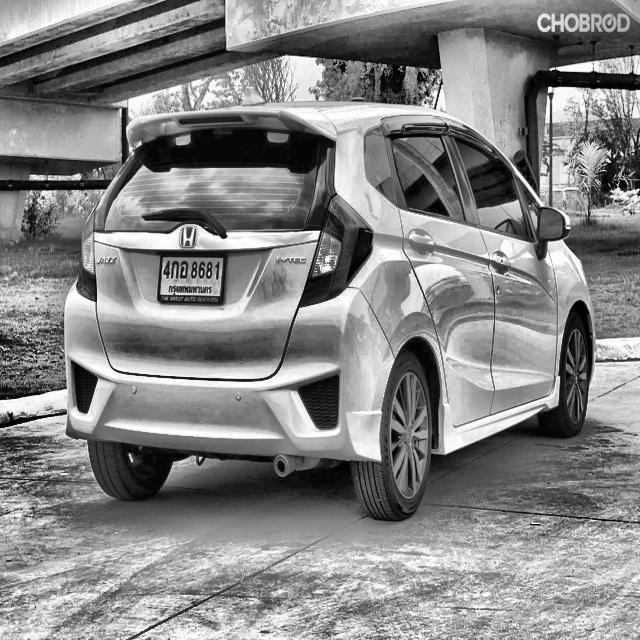license-plate: (157, 248, 228, 306)
